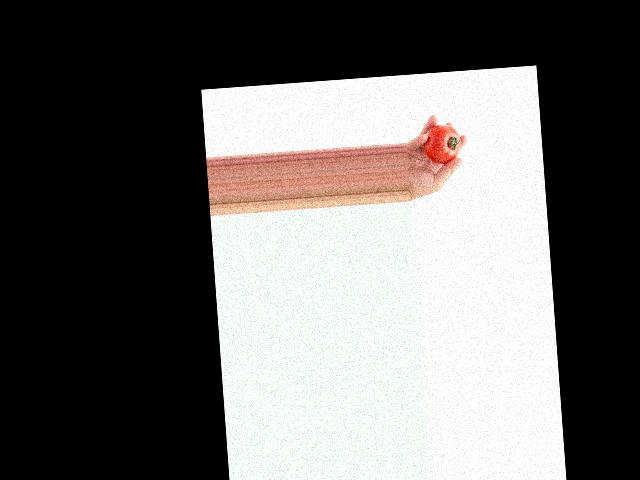tomato: (422, 123, 461, 164)
